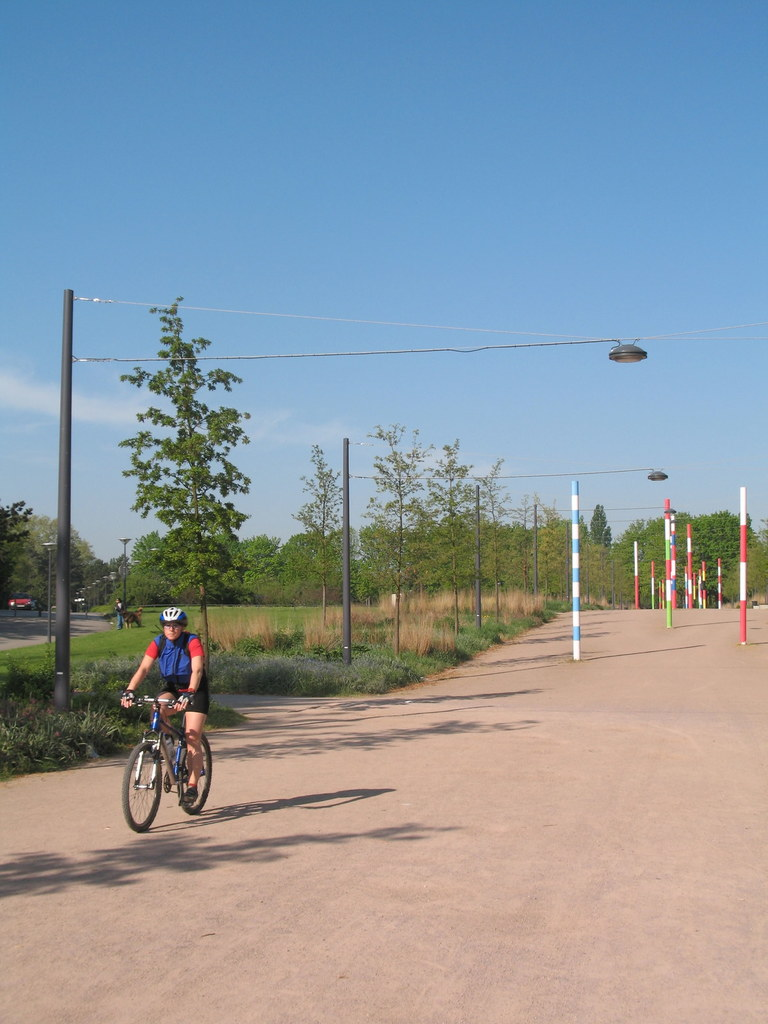Bike_toward: (97, 685, 230, 837)
